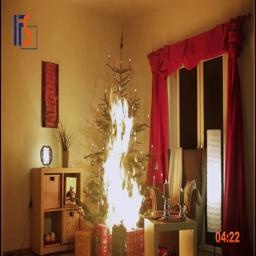fire: (89, 84, 150, 235)
